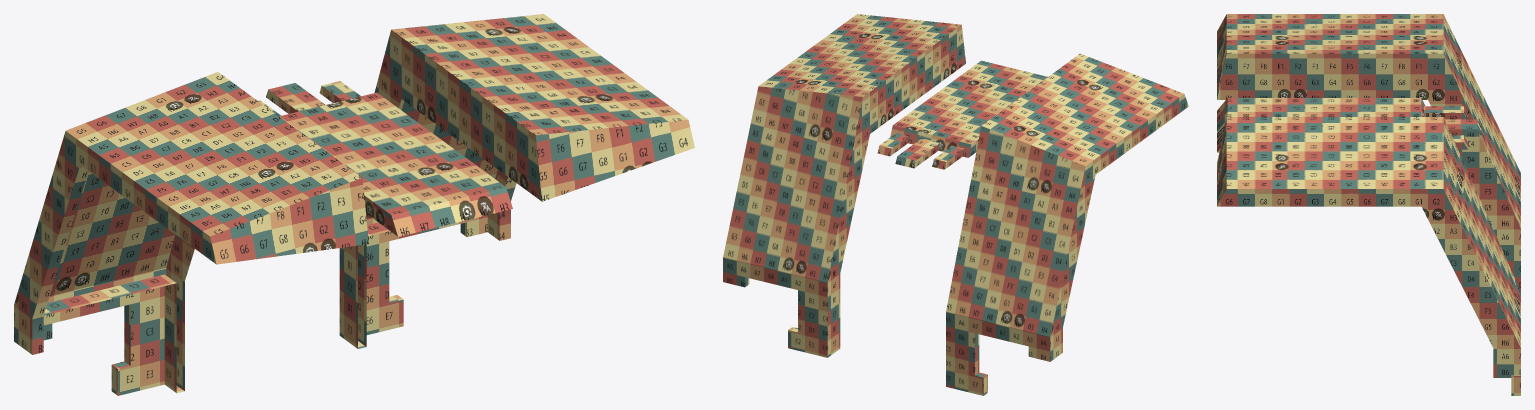
The model's file is MechBodyArmor.fbx.
3 views of the same model, side by side, from view 1: azimuth 30°, elevation 25°; view 2: azimuth 150°, elevation 25°; view 3: azimuth 270°, elevation 25° (orthographic). The views are drawn at different scales.
Parts seen in each view (by area): view 1: MechBodyArmor; view 2: MechBodyArmor; view 3: MechBodyArmor.
Part boxes in pixels (<box>): MechBodyArmor: <box>14,14,694,395</box>; MechBodyArmor: <box>723,14,1188,395</box>; MechBodyArmor: <box>1217,14,1520,395</box>.
Size of the model in its own units: 300 by 206 by 220.
